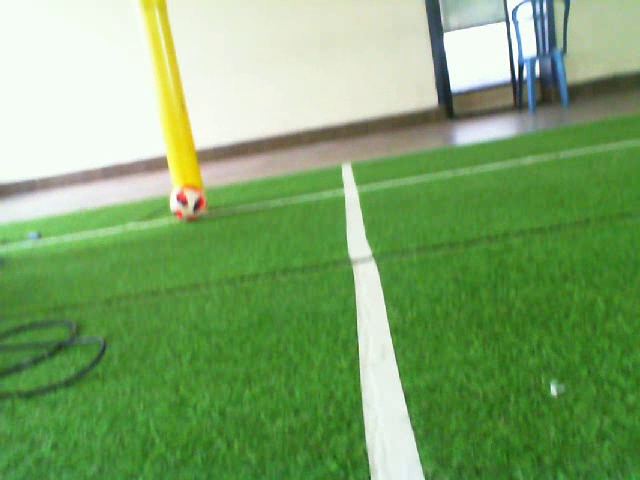ball: (167, 181, 209, 223)
